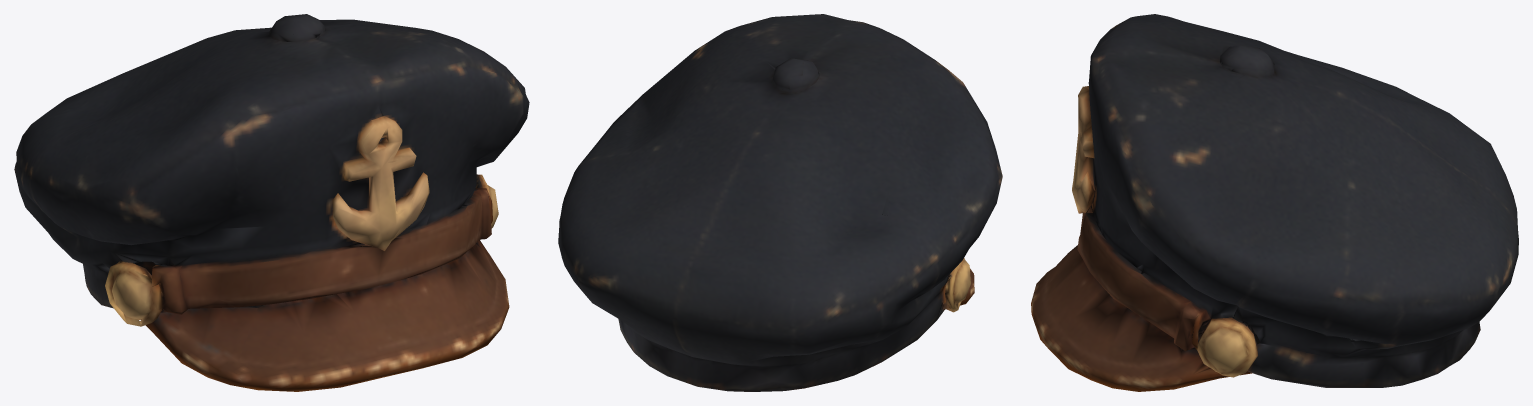
File: D5_守塔人帽子_v9.glb
3 views of the same model, side by side, from view 1: azimuth 30°, elevation 25°; view 2: azimuth 150°, elevation 25°; view 3: azimuth 270°, elevation 25° (orthographic). The views are drawn at different scales.
Parts seen in each view (by area): view 1: cap_body; view 2: cap_body; view 3: cap_body.
Part boxes in pixels (left/top/right/bottom): cap_body: left=14, top=14, right=529, bottom=391; cap_body: left=558, top=14, right=1002, bottom=391; cap_body: left=1031, top=14, right=1518, bottom=391.
Size of the model in its own units: 0.2796 by 0.1804 by 0.2797.
Materials: 2 (1 with a texture image).
